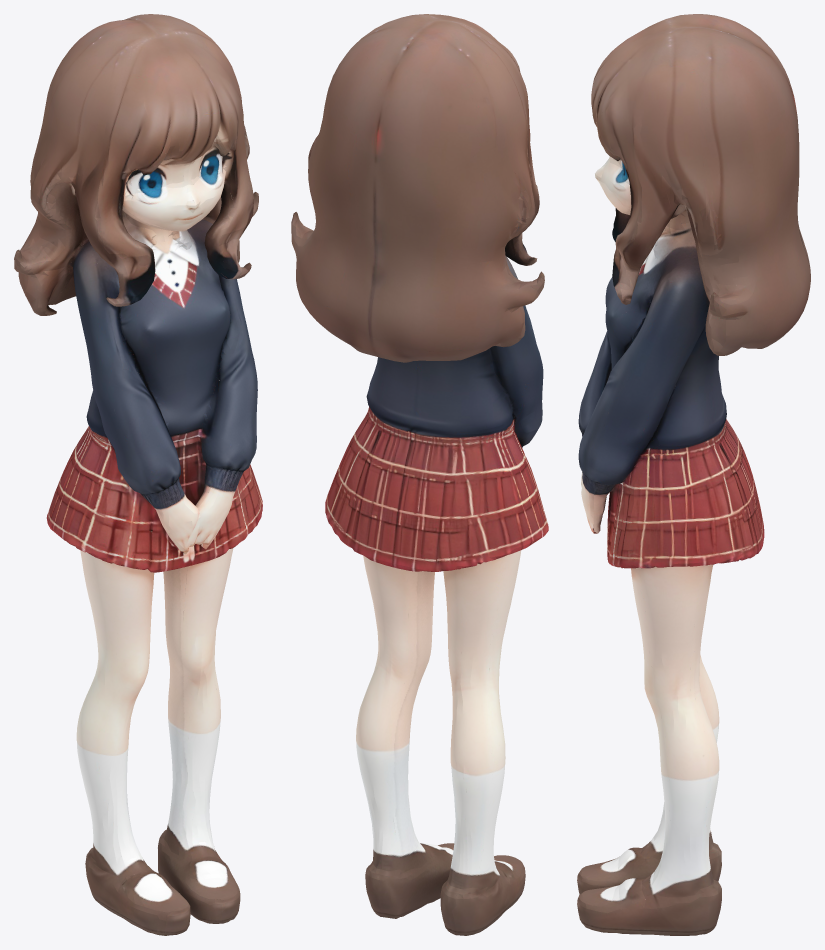
File: 3d-anime-girl-in-school-uniform-figurine.glb
3 views of the same model, side by side, from view 1: azimuth 30°, elevation 25°; view 2: azimuth 150°, elevation 25°; view 3: azimuth 270°, elevation 25° (orthographic). The views are drawn at different scales.
Parts seen in each view (by area): view 1: Mesh; view 2: Mesh; view 3: Mesh.
Part boxes in pixels (x1=…): Mesh: x1=14, y1=14, x2=262, y2=935; Mesh: x1=291, y1=14, x2=548, y2=935; Mesh: x1=577, y1=14, x2=810, y2=935.
Bounding box in the file's own units: 0.5619 × 1.91 × 0.4563.
1 material, 1 textured.
